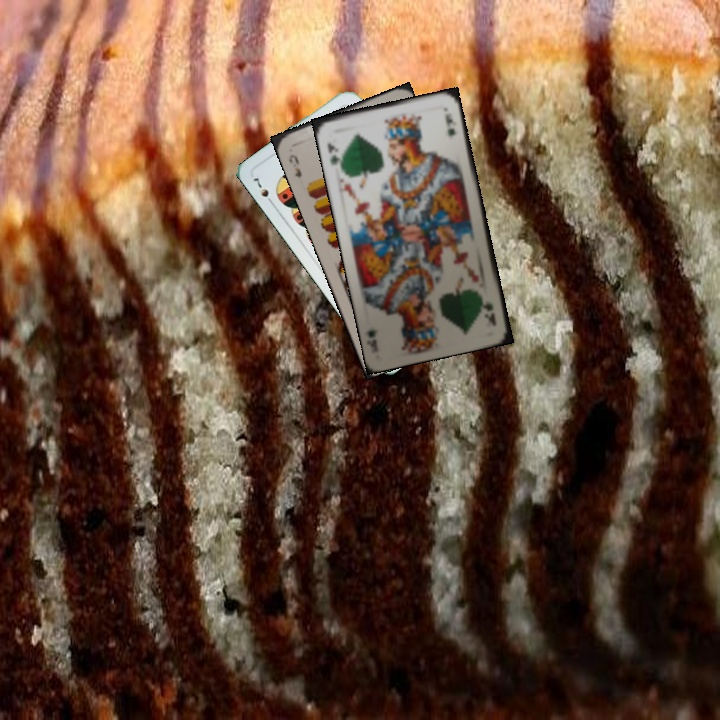E9: (284, 150, 304, 180)
GK: (323, 138, 344, 170), (480, 297, 499, 328)
S7: (249, 173, 277, 208)
